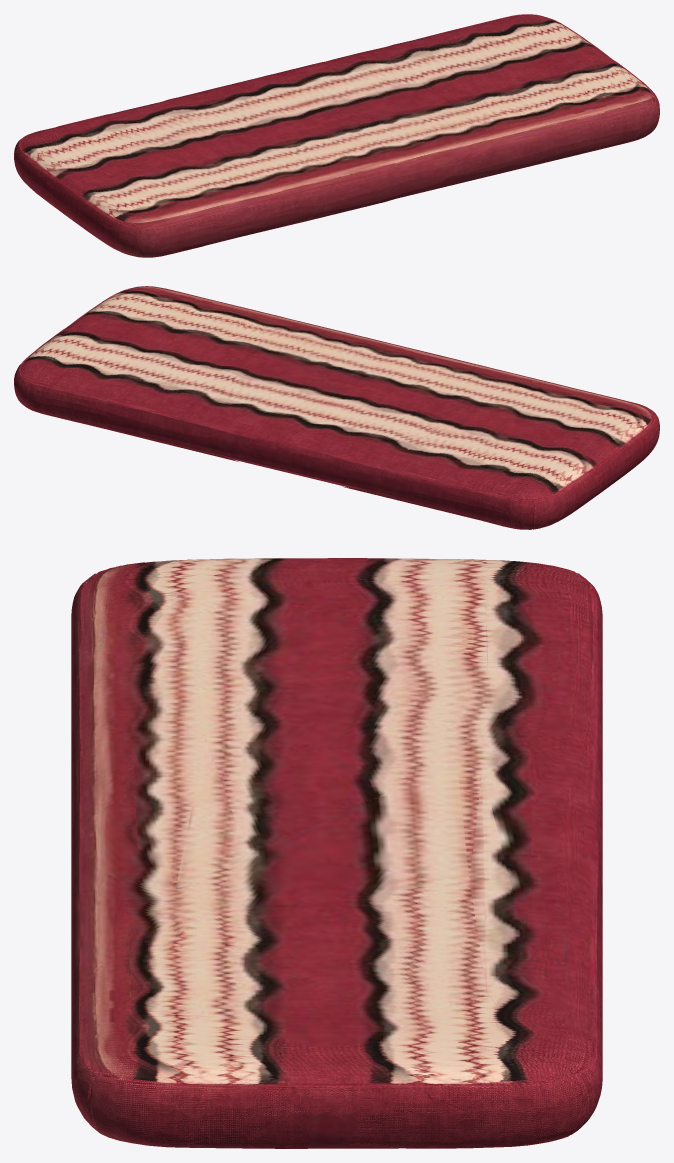
The model's file is w3hstripemat.glb.
The picture shows the model from 3 angles, top to bottom: view 1: azimuth 30°, elevation 25°; view 2: azimuth 150°, elevation 25°; view 3: azimuth 270°, elevation 25°; orthographic projection. The views are drawn at different scales.
Visible parts, largest first — view 1: output_unwrapped; view 2: output_unwrapped; view 3: output_unwrapped.
Part boxes in pixels (bbox=[...]): output_unwrapped: bbox=[14, 14, 659, 257]; output_unwrapped: bbox=[14, 286, 659, 529]; output_unwrapped: bbox=[71, 558, 602, 1148].
Size of the model in its own units: 1.4 by 0.1025 by 0.5868.
Materials: 1 (1 with a texture image).
